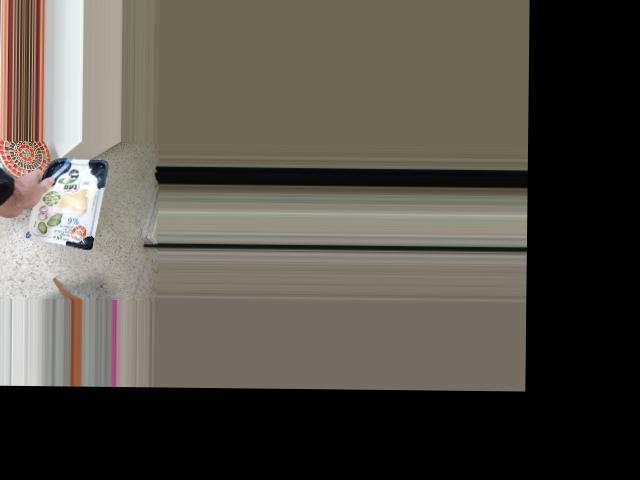cheese: (13, 172, 84, 240)
